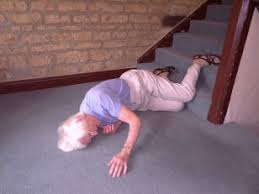falling: (48, 51, 222, 178)
